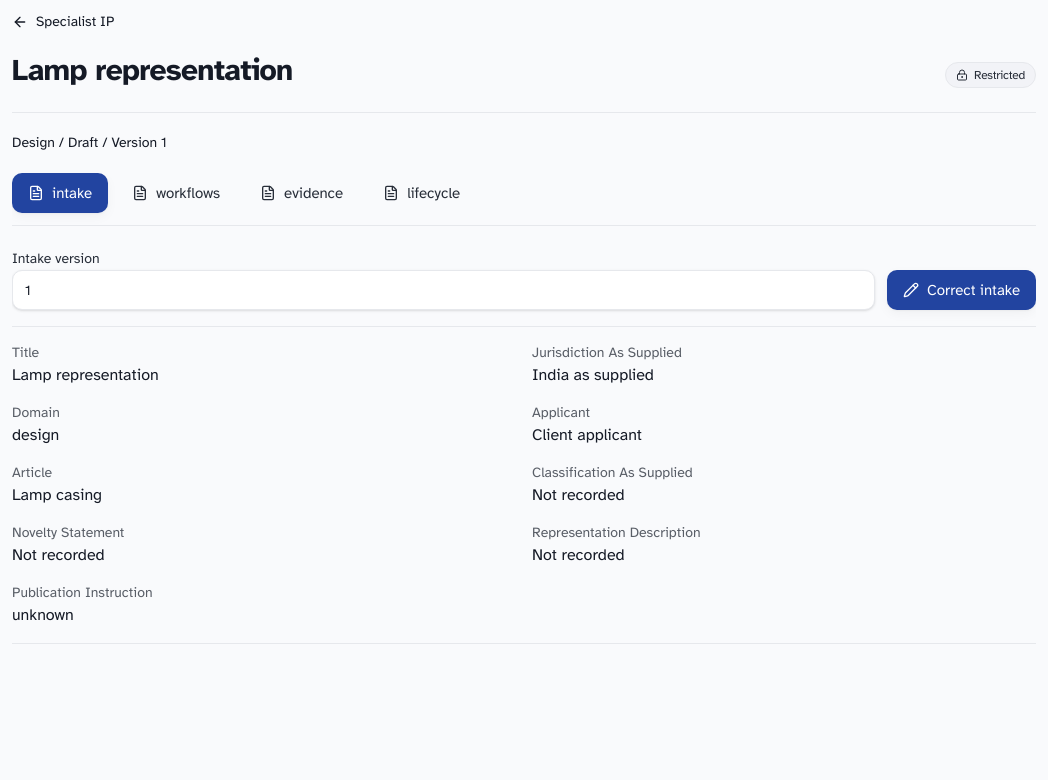
it: Specialist IP typed intake › preserves rejected edits and displays the failure
Click the button "Correct intake".
click(961, 290)  # box [887,270,1036,310]
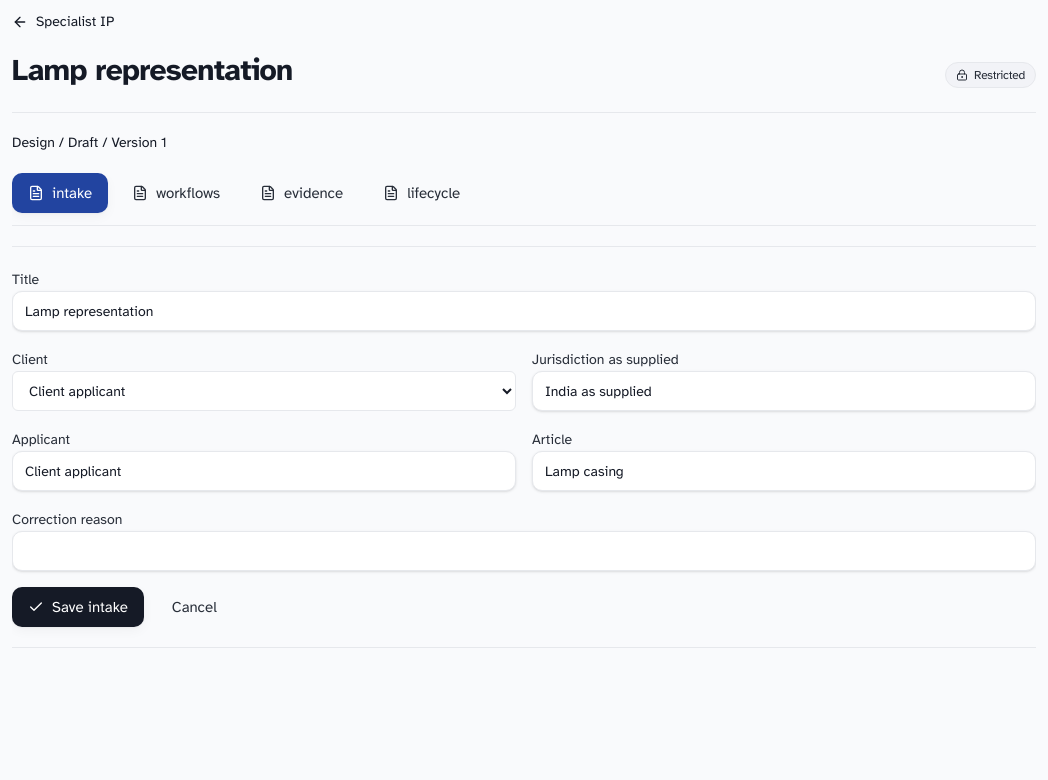
Now the field labelled "Title" is enabled
Replace the text in the field labelled "Title" with "Retained draft" at (524, 311), box [12,291,1036,331]
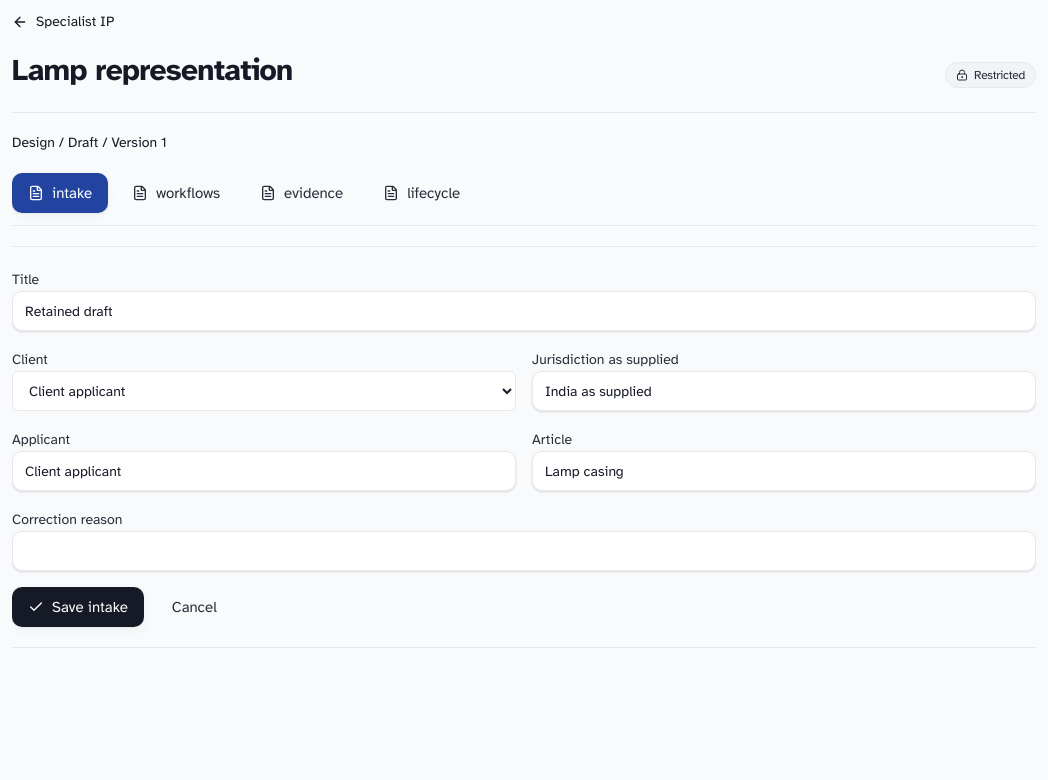
Type "Transcription correction" into the field labelled "Correction reason".
click(524, 551); type("Transcription correction")  # box [12,531,1036,571]
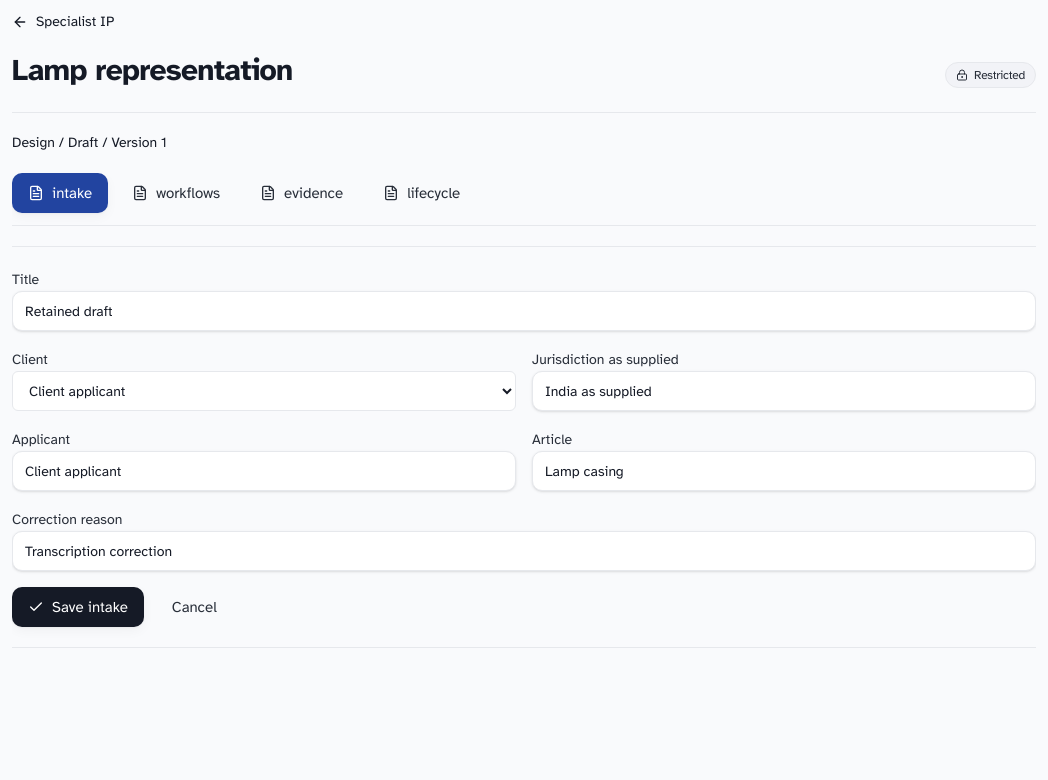
Click the button "Save intake".
click(78, 607)  # box [12,587,144,627]
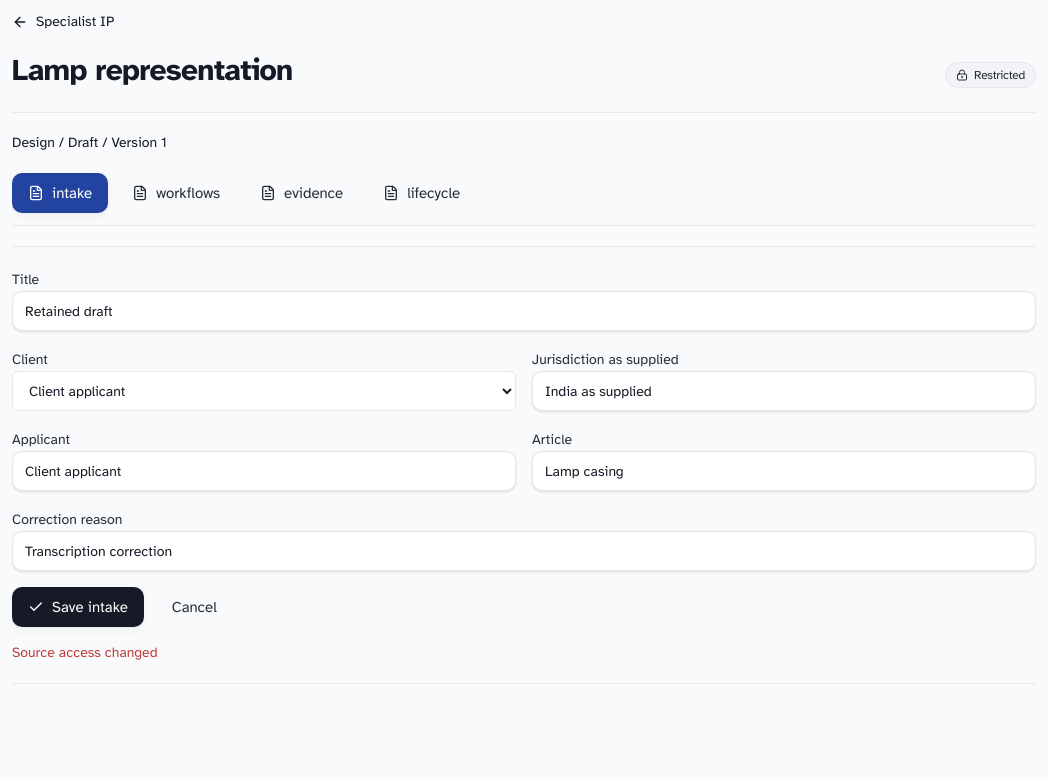
Now the message reads "Source access changed", box [12,644,158,661]
